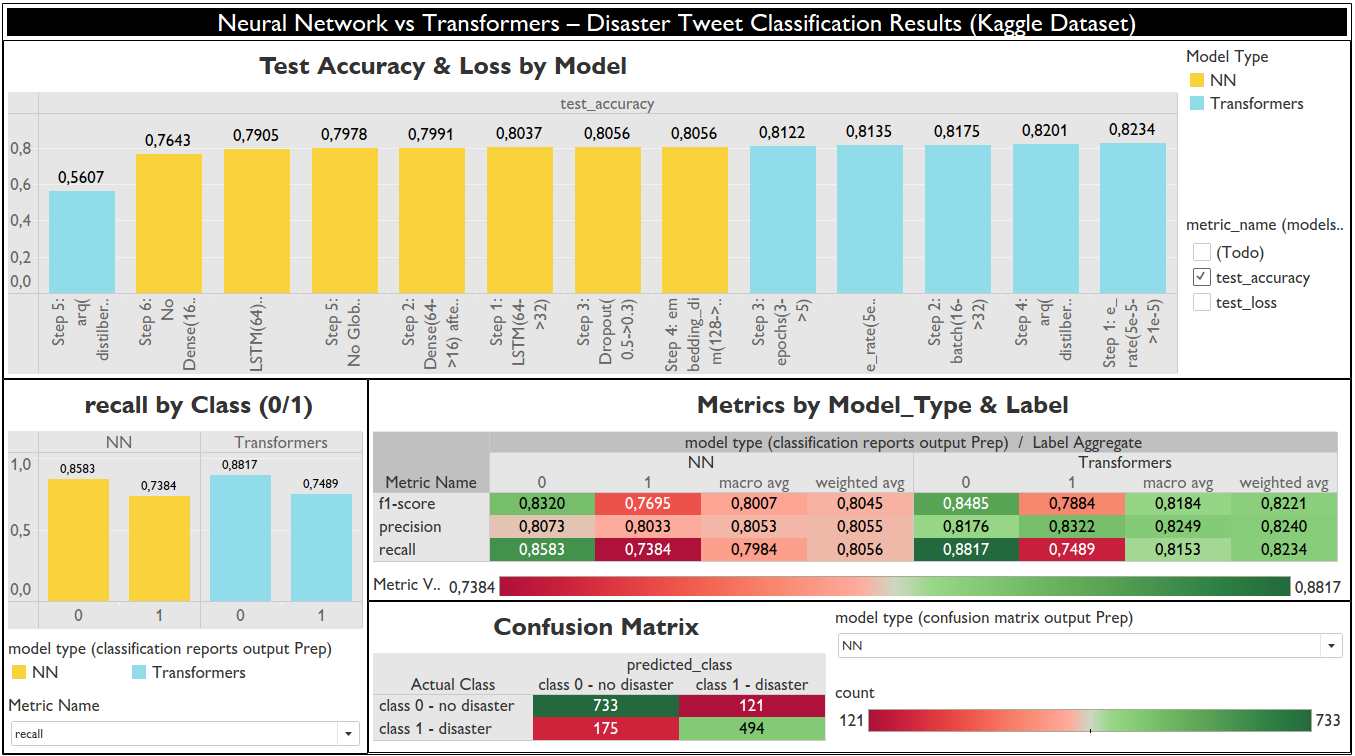

What the dashboard file says about the page in this screenshot:
{"tool":"tableau","page":{"name":"Dashboard","canvas":[1366,768],"ordinal":0},"visuals":[{"type":"text","box":[9,9,1348,36]},{"type":"worksheet","title":"Test Accuracy & Loss by Model","mark":"Automatic","rows":["metric_value (models_results_output_Prep)"],"cols":["metric_name (models_results_output_Prep)","model"],"box":[10,46,1178,337]},{"type":"legend","title":"Test Accuracy & Loss by Model","param":"[federated.1i0o1191npf4340zl6ien154gz4m].[none:model_type:nk]","box":[1188,46,168,168.5]},{"type":"filter","title":"Test Accuracy & Loss by Model","param":"[federated.1i0o1191npf4340zl6ien154gz4m].[none:metric_name (models_results_outpu","box":[1188,214.5,168,168.5]},{"type":"worksheet","title":"Selected Metric by Class (0/1)","mark":"Automatic","rows":["metric_value"],"cols":["model_type (classification_reports_output_Prep)","label_aggregate"],"box":[10,385,363,253]},{"type":"worksheet","title":"Metrics by Model_Type & Label","mark":"Square","rows":["metric_name"],"cols":["model_type (classification_reports_output_Prep)","label_aggregate"],"box":[375,385,981,188.4]},{"type":"legend","title":"Metrics by Model_Type & Label","param":"[federated.1i0o1191npf4340zl6ien154gz4m].[sum:metric_value:qk]","box":[375,573.4,981,32]},{"type":"worksheet","title":"Confusion Matrix","mark":"Square","rows":["actual_class"],"cols":["predicted_class"],"box":[375,607.4,462,150]},{"type":"filter","title":"Confusion Matrix","param":"[federated.1i0o1191npf4340zl6ien154gz4m].[none:model_type (confusion_matrix_outp","box":[837,607.4,519,75]},{"type":"legend","title":"Selected Metric by Class (0/1)","param":"[federated.1i0o1191npf4340zl6ien154gz4m].[none:model_type (classification_report","box":[10,638,363,57]},{"type":"legend","title":"Confusion Matrix","param":"[federated.1i0o1191npf4340zl6ien154gz4m].[sum:count:qk]","box":[837,682.4,519,75]},{"type":"filter","title":"Selected Metric by Class (0/1)","param":"[federated.1i0o1191npf4340zl6ien154gz4m].[none:metric_name:nk]","box":[10,695,363,63]}]}

Visuals, with their boxes in screenshot pixels (x1, y1, x2, y2), scaled from the page's 1366x768 canvas onto the 1355x756 screenshot:
text: locate(9, 9, 1346, 44)
"Test Accuracy & Loss by Model" worksheet: locate(10, 45, 1178, 377)
"Test Accuracy & Loss by Model" legend: locate(1178, 45, 1345, 211)
"Test Accuracy & Loss by Model" filter: locate(1178, 211, 1345, 377)
"Selected Metric by Class (0/1)" worksheet: locate(10, 379, 370, 628)
"Metrics by Model_Type & Label" worksheet (Square marks): locate(372, 379, 1345, 564)
"Metrics by Model_Type & Label" legend: locate(372, 564, 1345, 596)
"Confusion Matrix" worksheet (Square marks): locate(372, 598, 830, 746)
"Confusion Matrix" filter: locate(830, 598, 1345, 672)
"Selected Metric by Class (0/1)" legend: locate(10, 628, 370, 684)
"Confusion Matrix" legend: locate(830, 672, 1345, 746)
"Selected Metric by Class (0/1)" filter: locate(10, 684, 370, 746)
